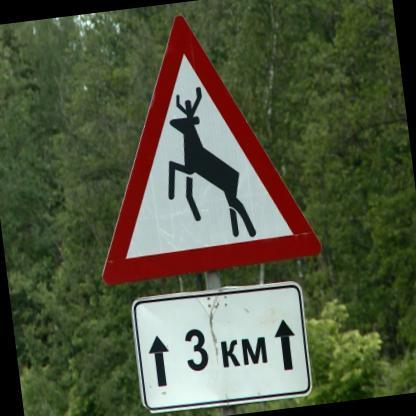road_sign: (103, 16, 320, 284), (133, 283, 310, 413)
